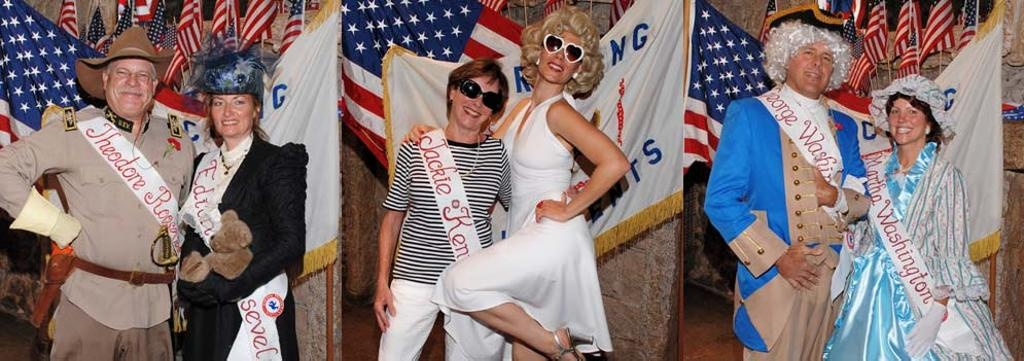human_face: (106, 54, 154, 114), (538, 27, 582, 82), (452, 77, 498, 128), (788, 40, 832, 92), (210, 89, 254, 135), (888, 101, 926, 143)
